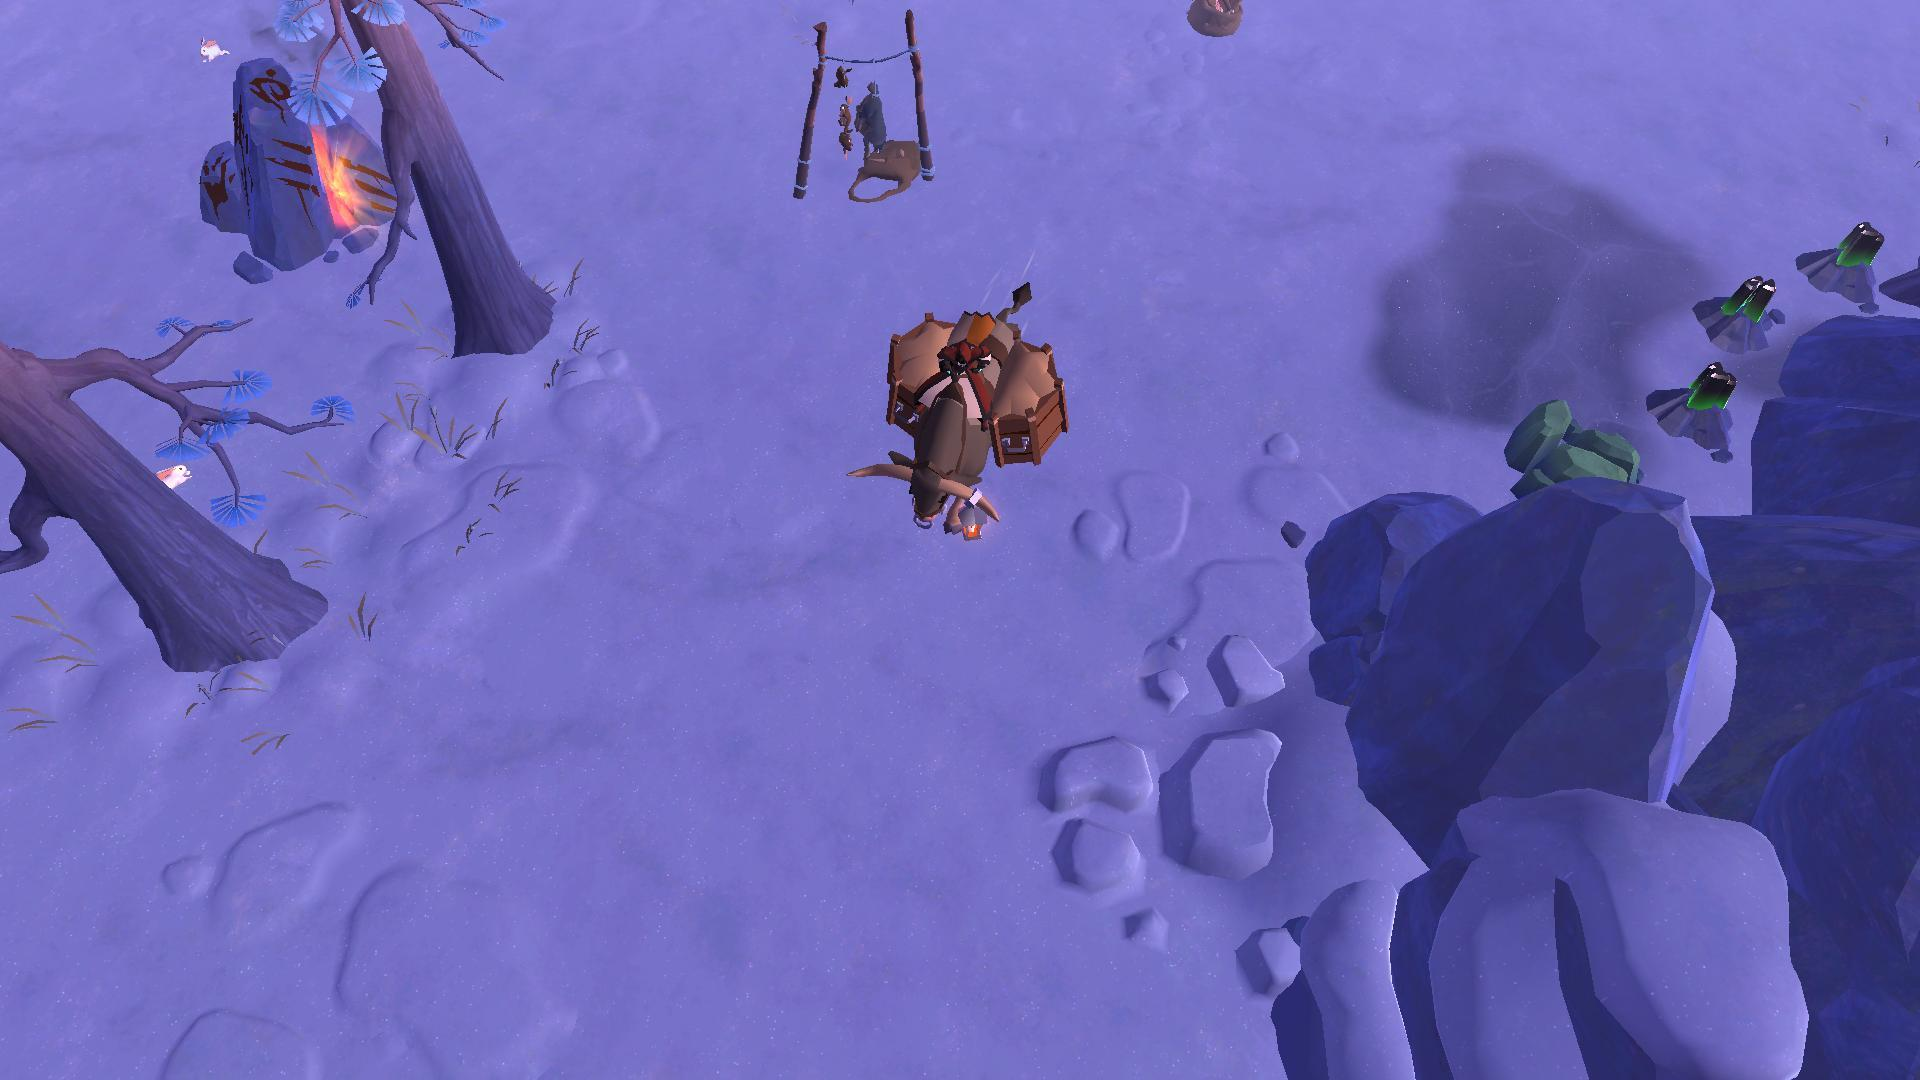ore_t3: (1721, 273, 1776, 336), (1688, 355, 1737, 411), (1838, 214, 1879, 268)
rock_t3: (1485, 381, 1652, 522)
